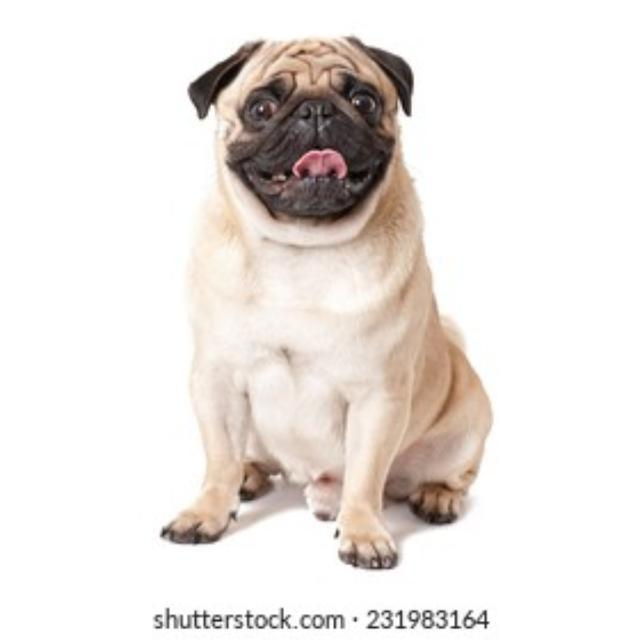dog: (142, 28, 506, 578)
